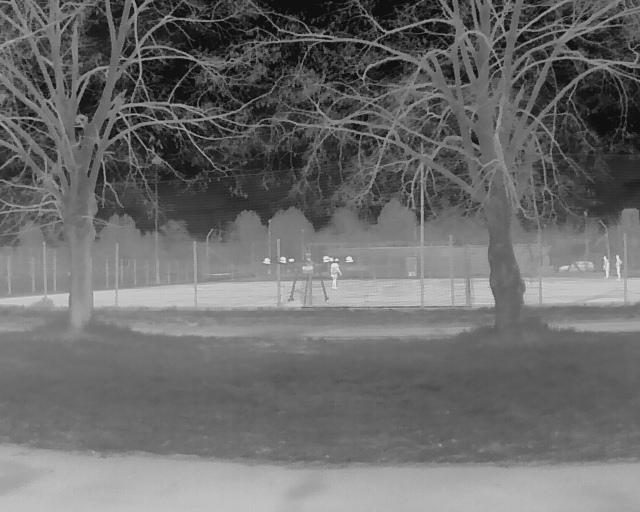drone: (258, 254, 348, 305)
